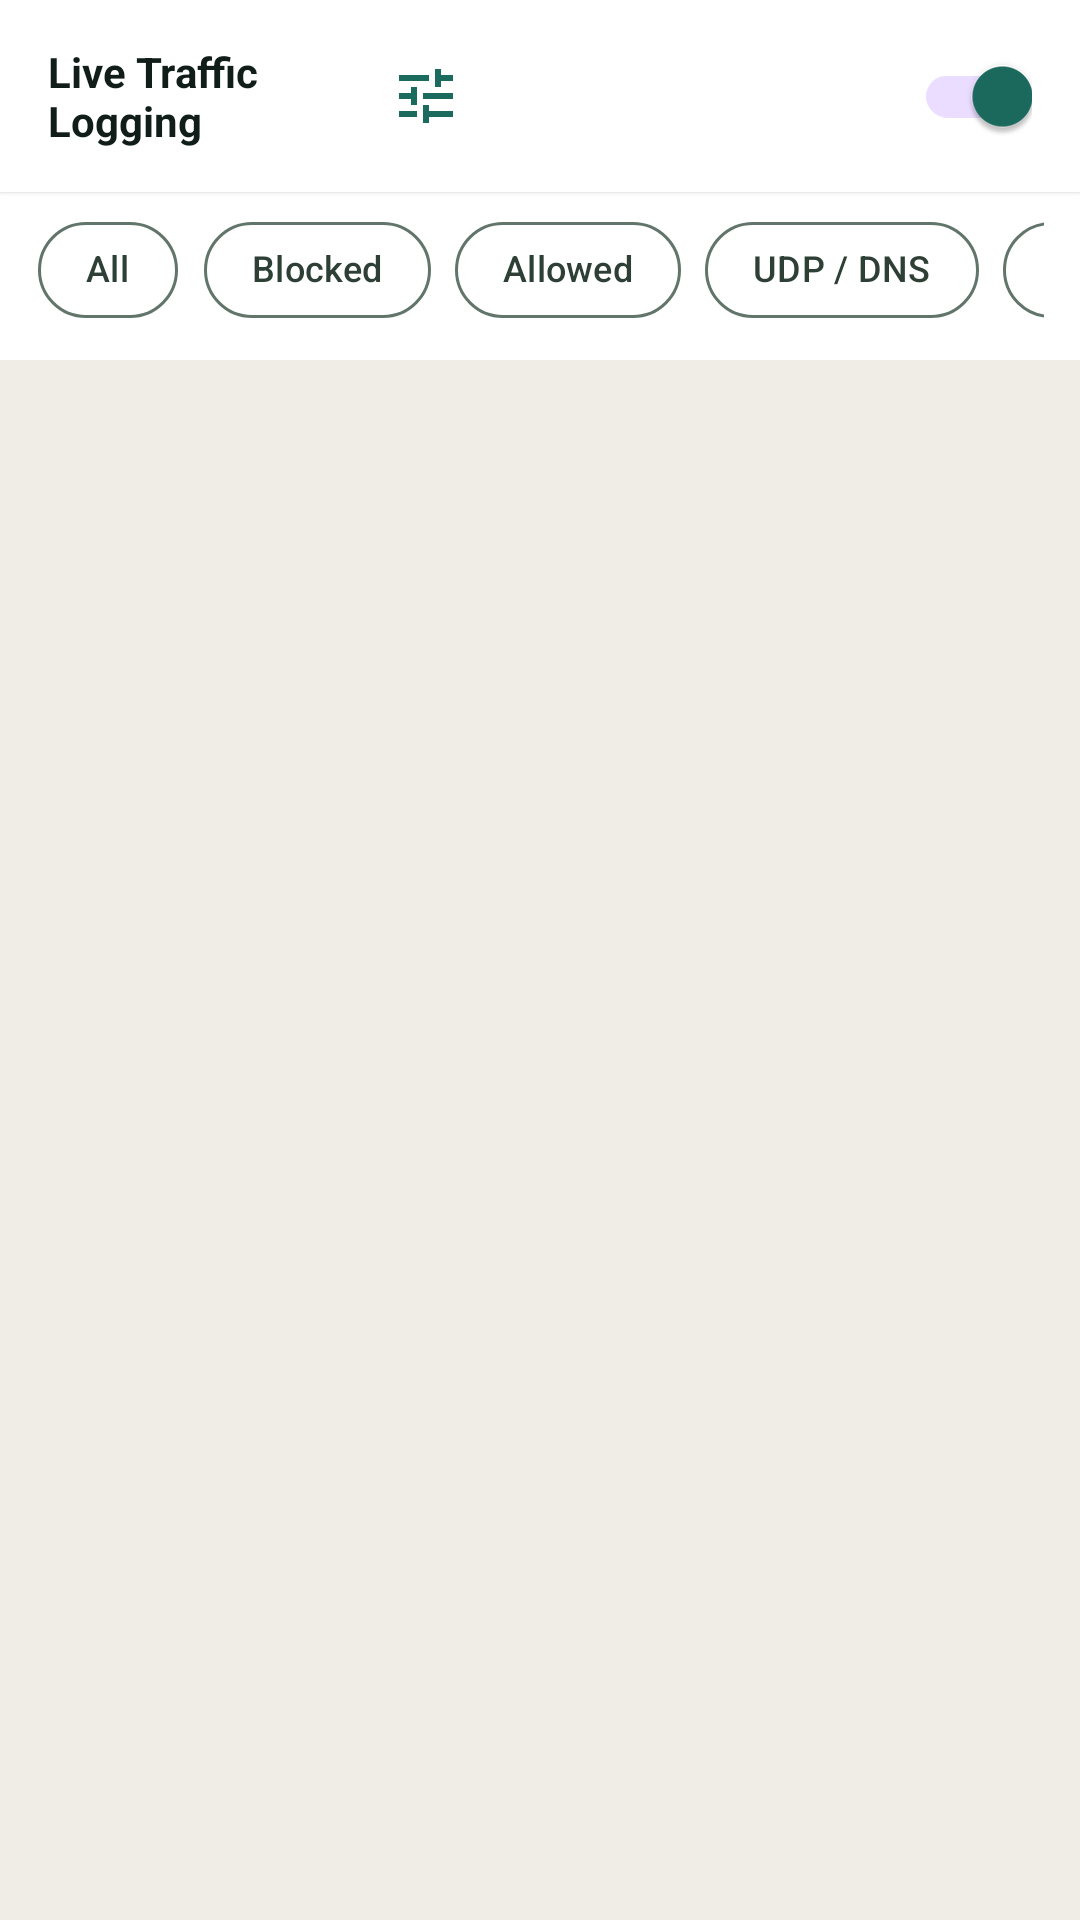

Icon bounding boxes for this 1080x1920 phone screenshot, format (x1, y1, x2, y2):
Filter traffic logs: (399, 69, 453, 123)
